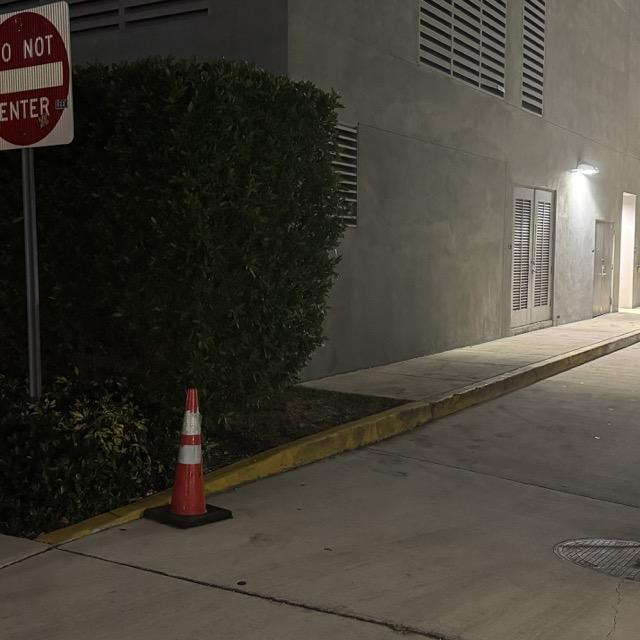curb: (206, 329, 639, 495), (40, 492, 169, 544)
